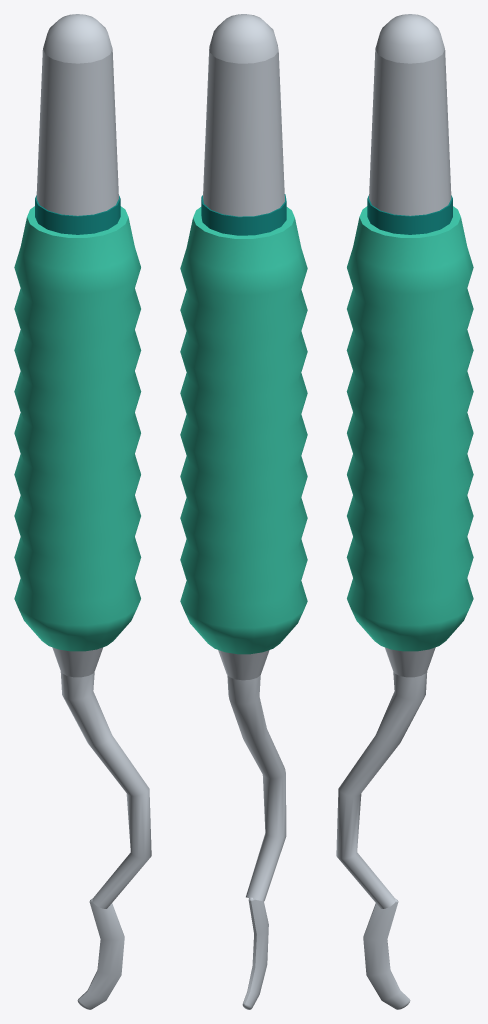
Rendered from tool_curette.glb.
3 renders of one model, left to right at view 1: azimuth 90°, elevation 25°; view 2: azimuth 150°, elevation 25°; view 3: azimuth 270°, elevation 25°, orthographic.
Parts seen in each view (by area): view 1: tool_curette; view 2: tool_curette; view 3: tool_curette.
Part boxes in pixels (x1=…): tool_curette: x1=14, y1=14, x2=151, y2=1009; tool_curette: x1=180, y1=14, x2=307, y2=1009; tool_curette: x1=336, y1=14, x2=473, y2=1009.
Size of the model in its own units: 0.9848 by 8.63 by 1.08.
